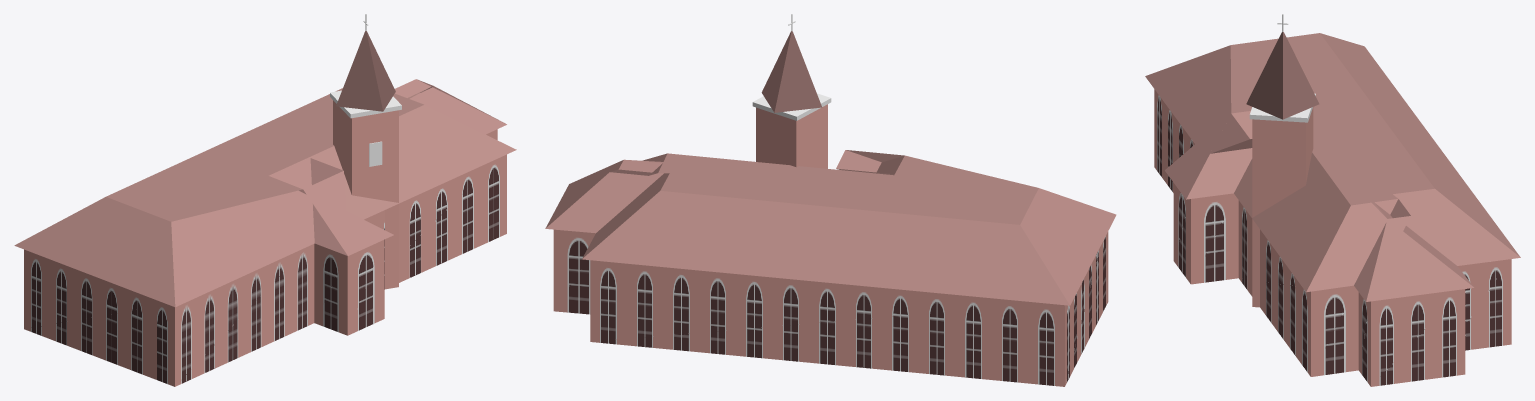
File: sn_pinkchurch.glb
The picture shows the model from 3 angles, left to right: view 1: azimuth 30°, elevation 25°; view 2: azimuth 150°, elevation 25°; view 3: azimuth 270°, elevation 25°; orthographic projection. The views are drawn at different scales.
Parts seen in each view (by area): view 1: sn_pinkchurch_lod0; view 2: sn_pinkchurch_lod0; view 3: sn_pinkchurch_lod0.
Part boxes in pixels (<box>): sn_pinkchurch_lod0: <box>14,14,516,386</box>; sn_pinkchurch_lod0: <box>545,14,1116,386</box>; sn_pinkchurch_lod0: <box>1145,14,1520,386</box>.
Size of what is drawn, in the model's own units: 49.41 by 25.5 by 30.7.
6 materials, 1 textured.
